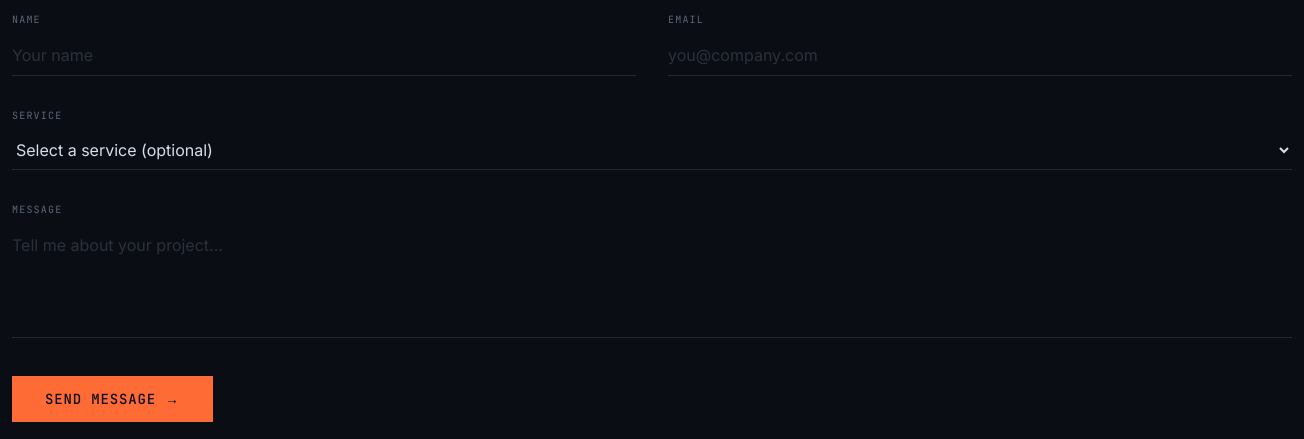
Test case: ContactForm › submits successfully and shows success message
The width and height of the screenshot is (1304, 439).
Step 1. Type "John Doe" into the field labelled "Name" → (324, 56), box left=12, top=35, right=636, bottom=76
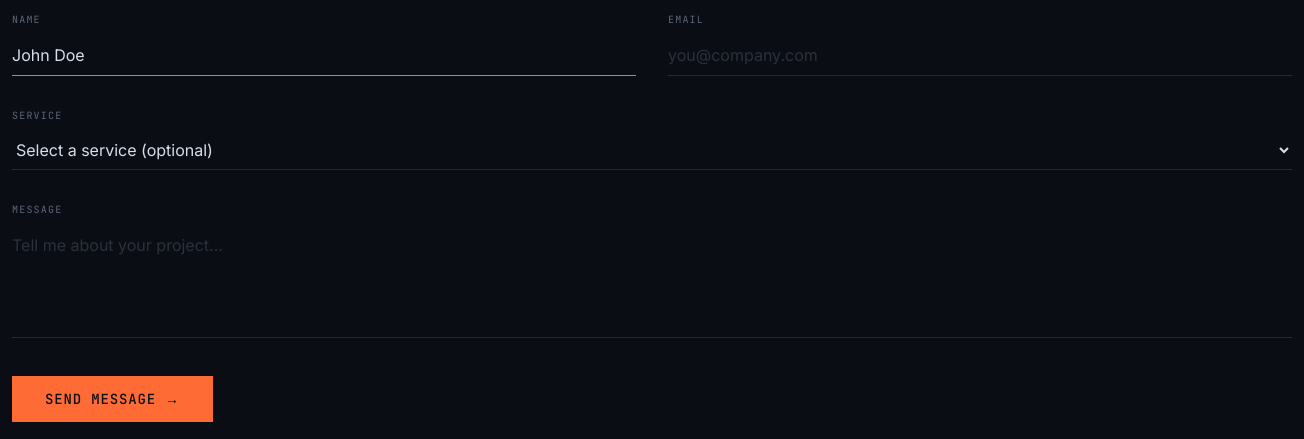
Step 2. Type "john@example.com" into the field with placeholder "you@company.com" → (980, 56), box left=668, top=35, right=1292, bottom=76
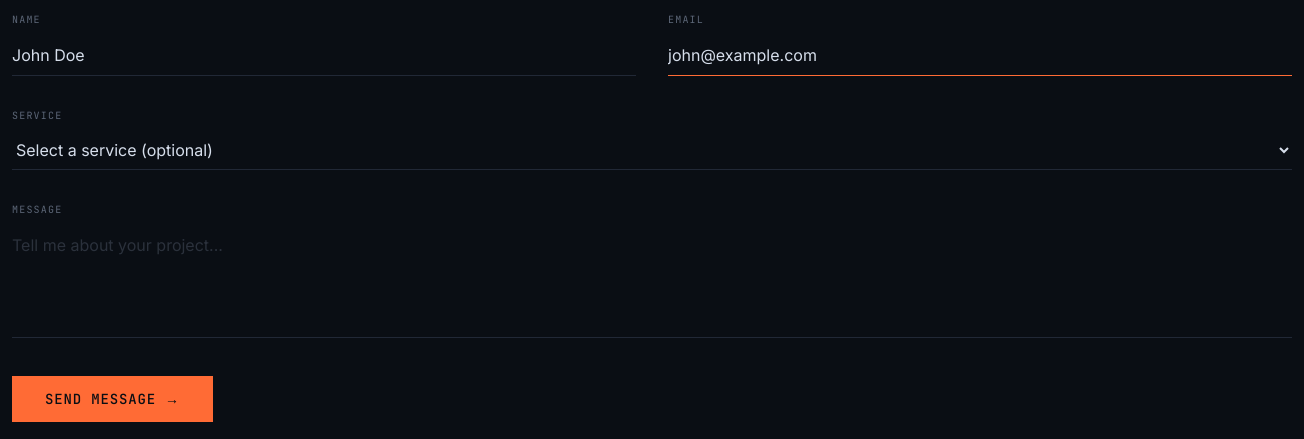
Step 3. Type "Hello, I would like to hire you for a blog project." into the text box labelled "Message" → (652, 282), box left=12, top=225, right=1292, bottom=338
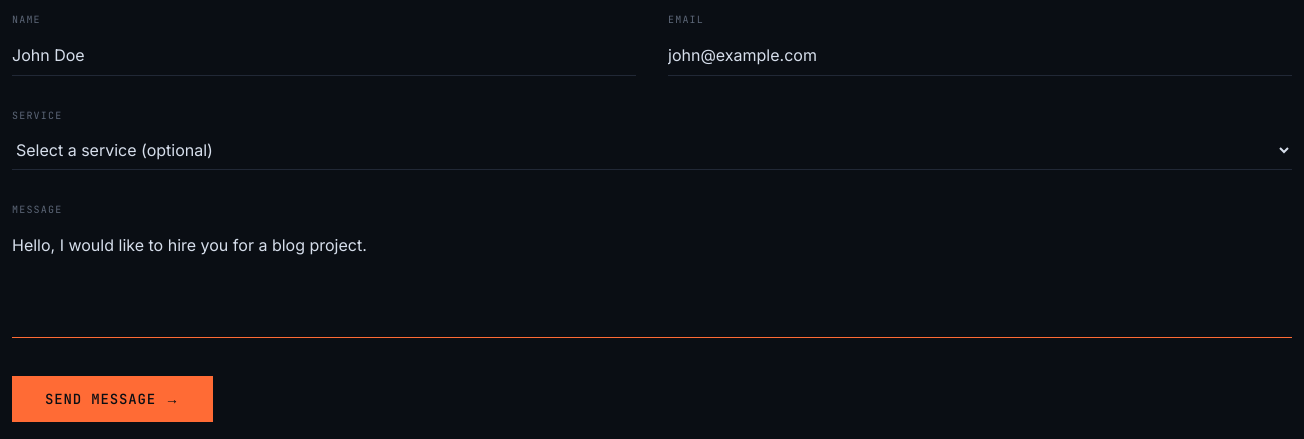
Step 4. Click the button "Send message →" → (112, 399), box left=12, top=376, right=213, bottom=422
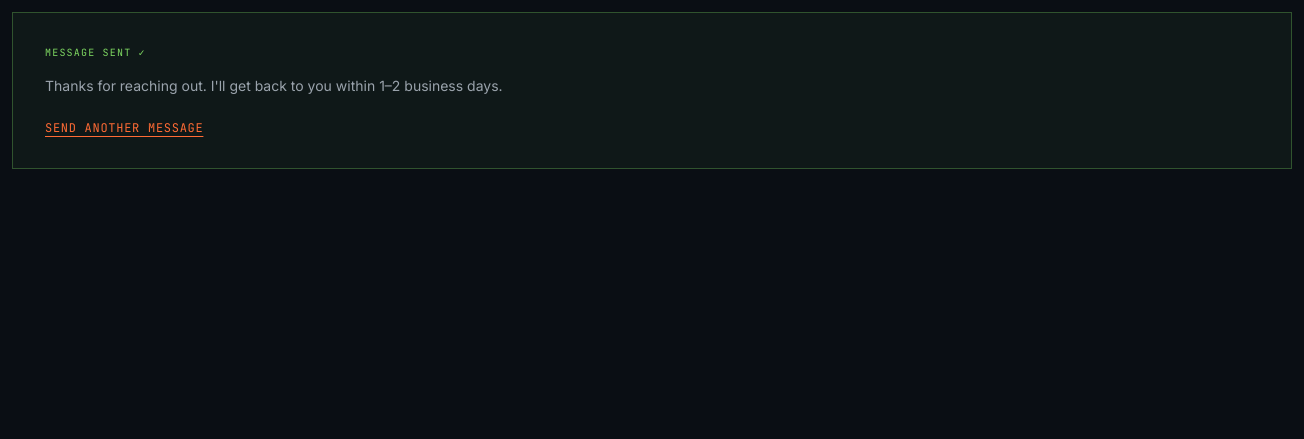
Check: the text "Message sent ✓" is shown, box left=45, top=45, right=146, bottom=60
